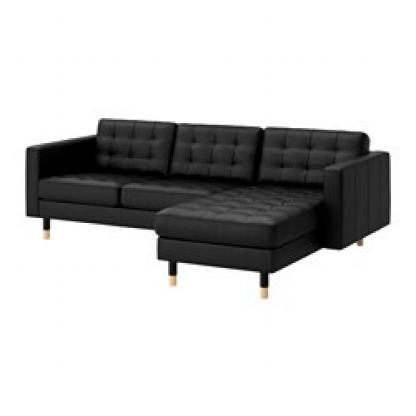Sofa: (18, 87, 393, 306)
